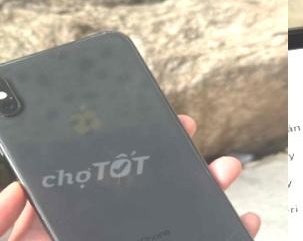scratch: (190, 208, 274, 241), (108, 156, 151, 204), (45, 41, 75, 64)
